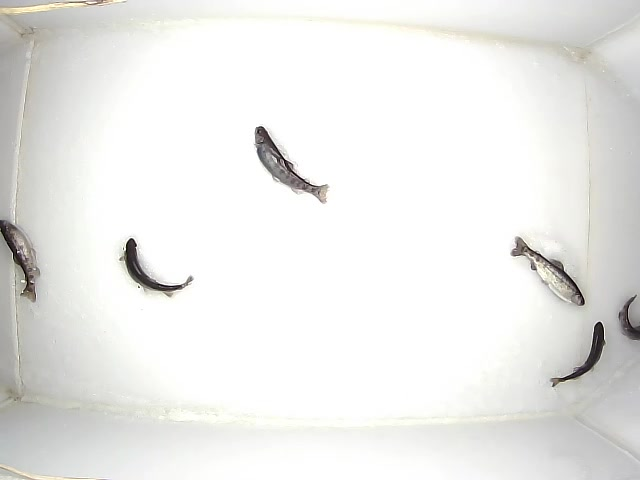fish: (254, 126, 330, 205), (510, 236, 585, 306), (119, 238, 194, 298), (550, 321, 606, 387), (1, 220, 40, 303), (618, 294, 640, 341)
